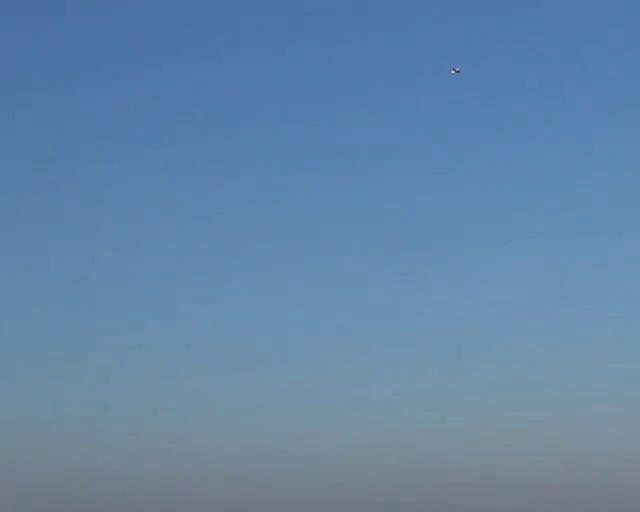AIRPLANE: (450, 66, 461, 75)
